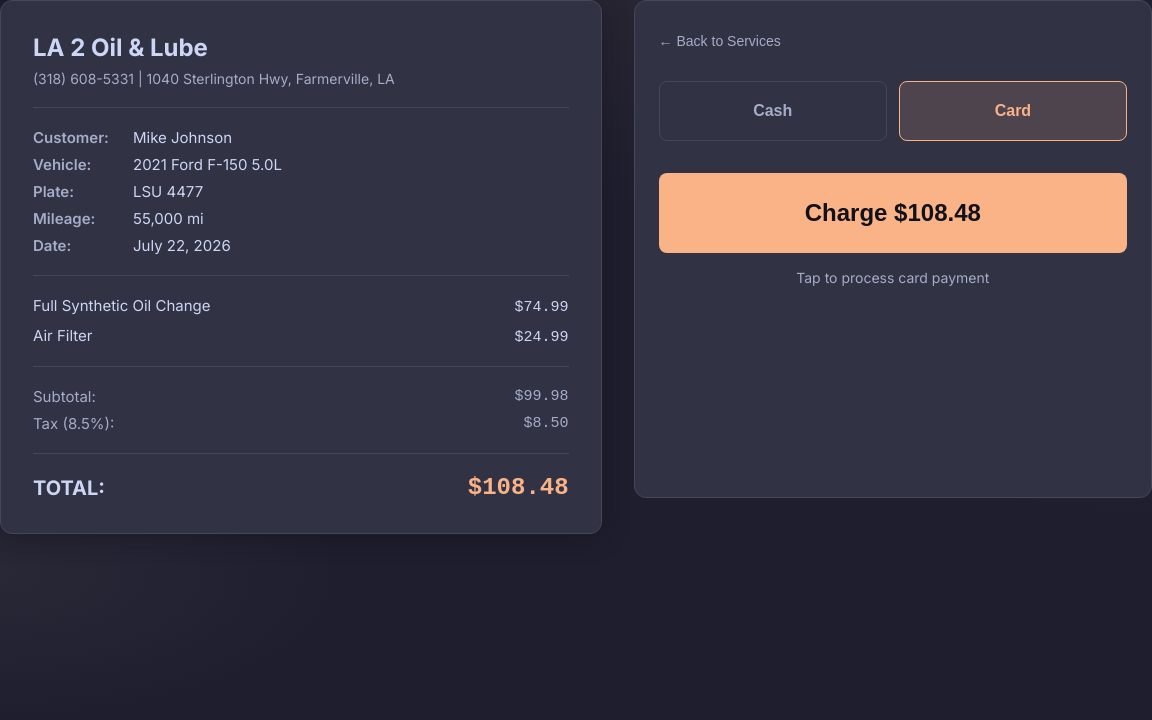
it: PaymentScreen › cash mode - confirm button enabled when tendered >= total
Note: Switch to Cash
Click the button "Cash" at (773, 111), box x1=659 y1=81 x2=887 y2=141
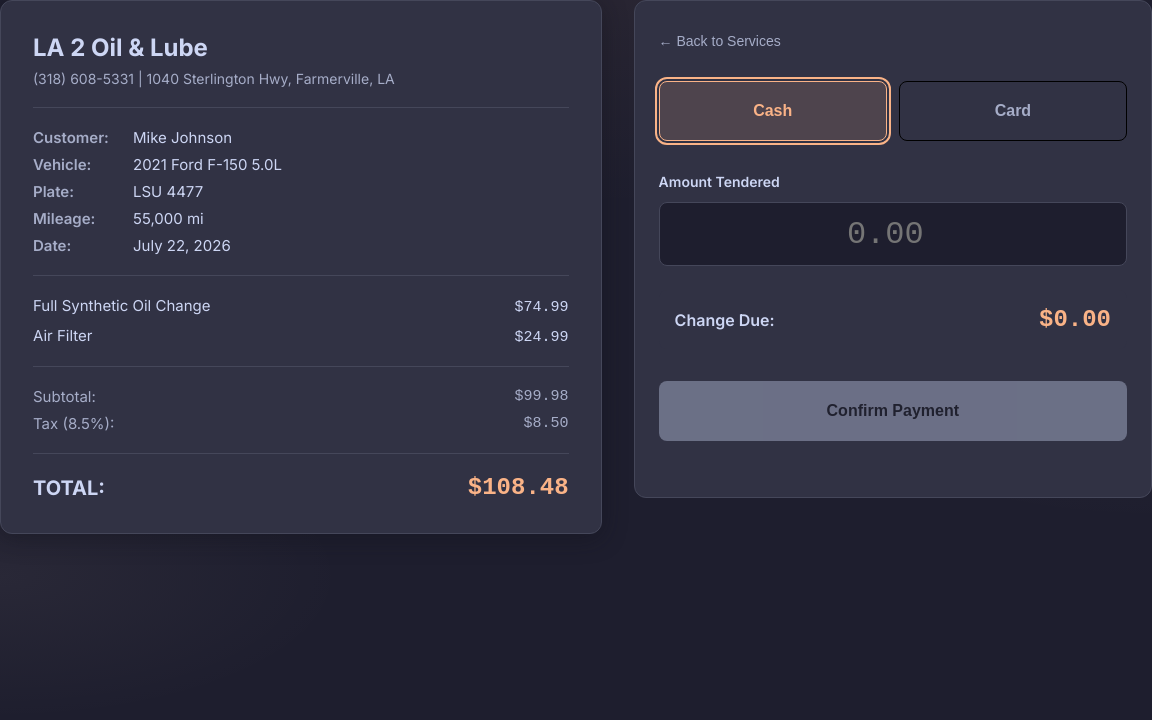
Note: Type sufficient amount
Type "120" into the number field with placeholder "0.00" at (893, 234), box x1=659 y1=202 x2=1127 y2=266
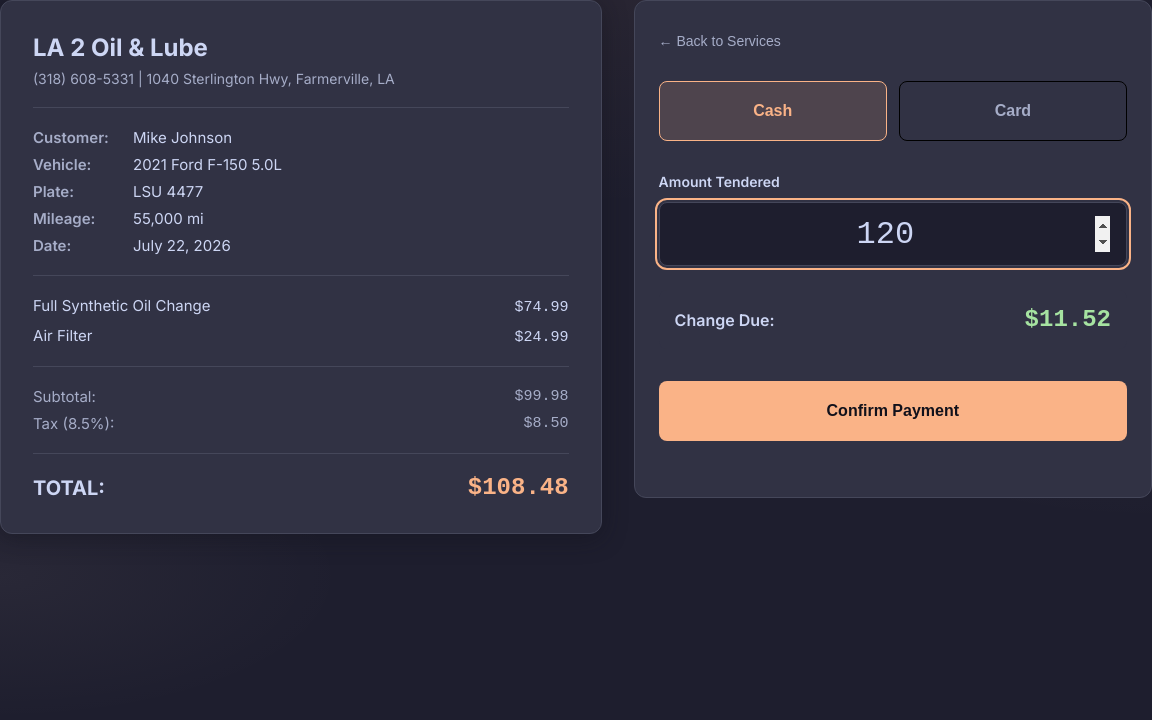
Expected: the button "Confirm Payment" is enabled, x1=659 y1=381 x2=1127 y2=441
